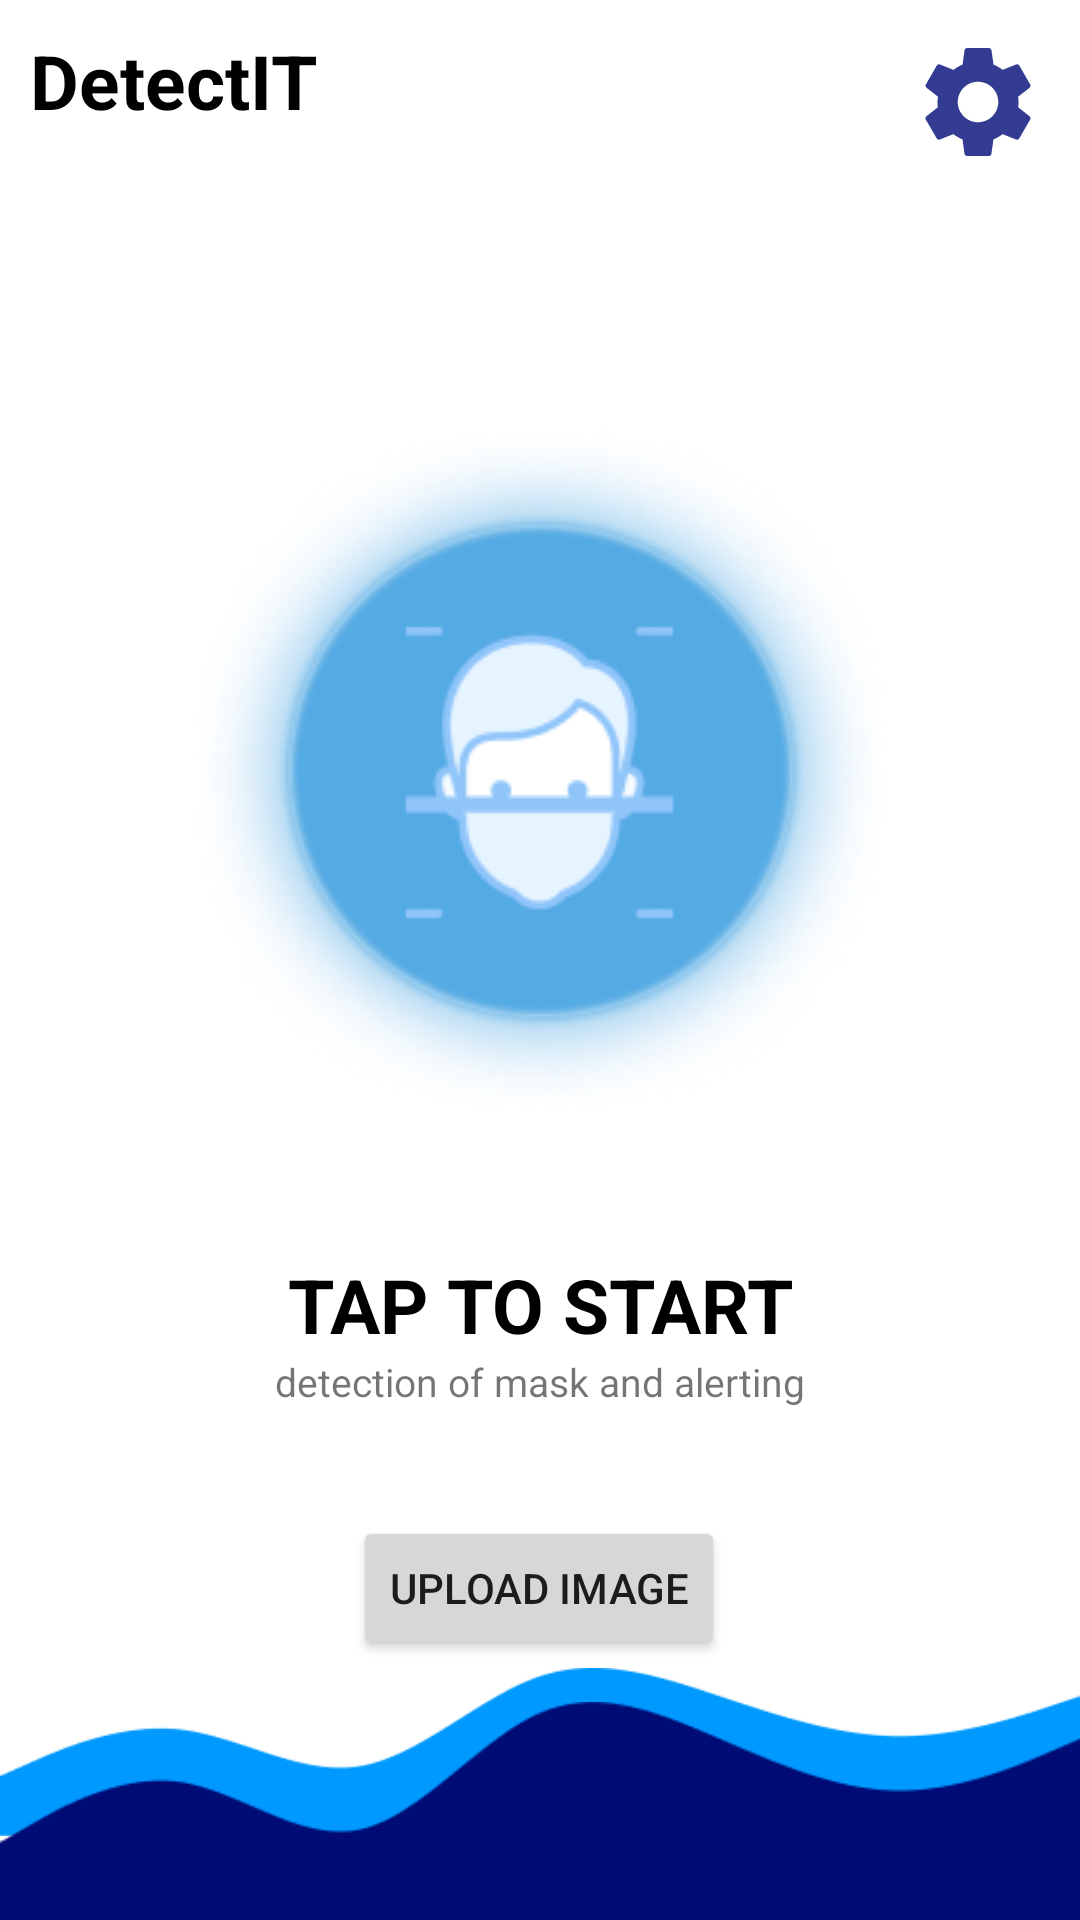

Locate icon controls on the screen. Image size 1080*1920, boxes as (x1, y1, x2, y2).
setting: (925, 48, 1031, 156)
